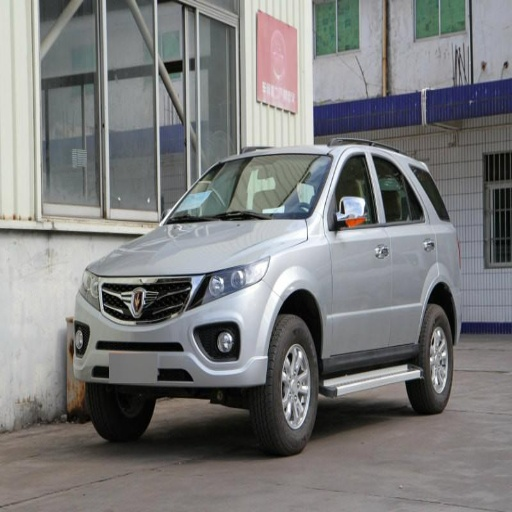front_bumper: (72, 273, 279, 389)
front_glass: (165, 154, 331, 223)
front_left_door: (325, 148, 392, 363)
